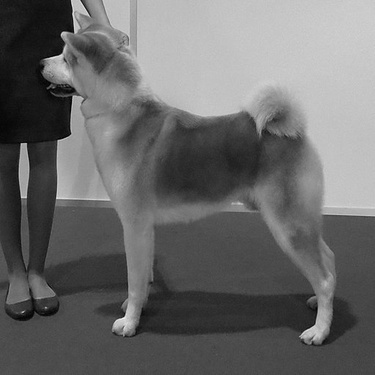dog: (34, 8, 344, 348)
